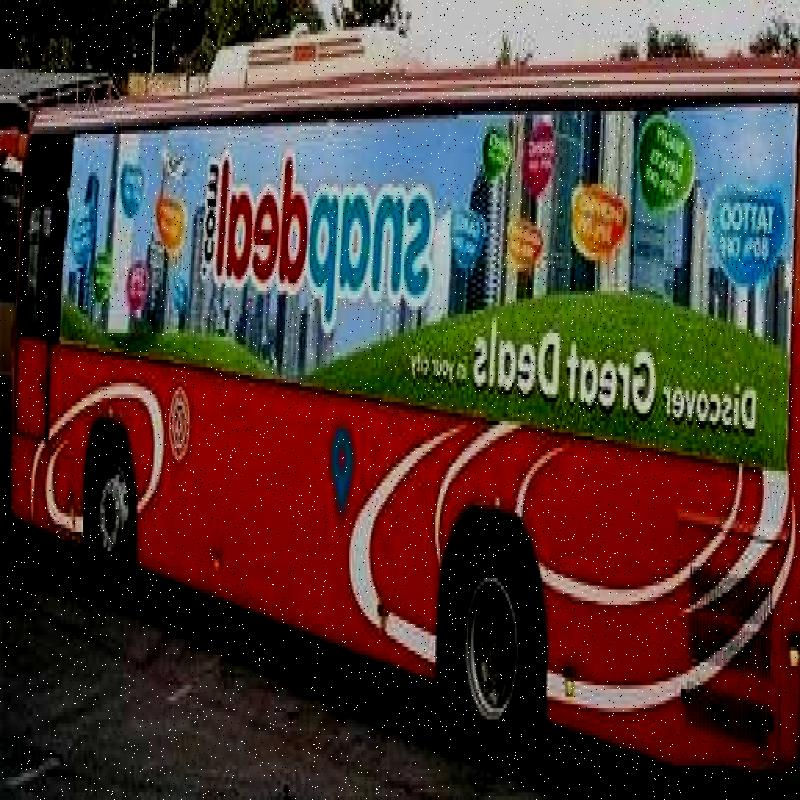bus: (10, 37, 794, 601)
